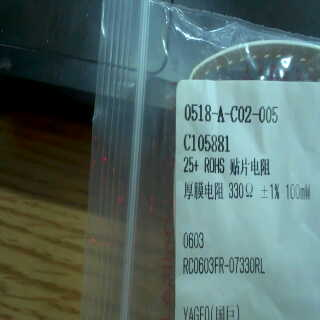330R: (226, 179, 257, 203)
